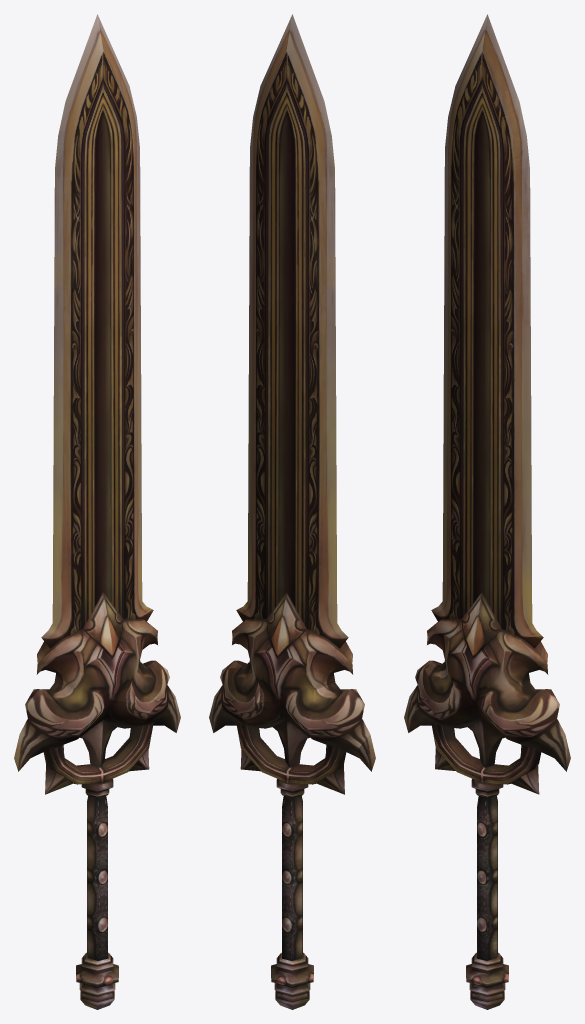
Rendered from Weapon_73.fbx.
3 views of the same model, side by side, from view 1: azimuth 30°, elevation 25°; view 2: azimuth 150°, elevation 25°; view 3: azimuth 330°, elevation 25° (orthographic).
Parts seen in each view (by area): view 1: Weapon_73; view 2: Weapon_73; view 3: Weapon_73.
Boxes of the visible parts, box(x1,y1,x2,y2) form: Weapon_73: box(14, 14, 180, 1009); Weapon_73: box(209, 14, 375, 1009); Weapon_73: box(404, 14, 570, 1009).
Bounding box in the file's own units: 28.93 × 11.77 × 165.
